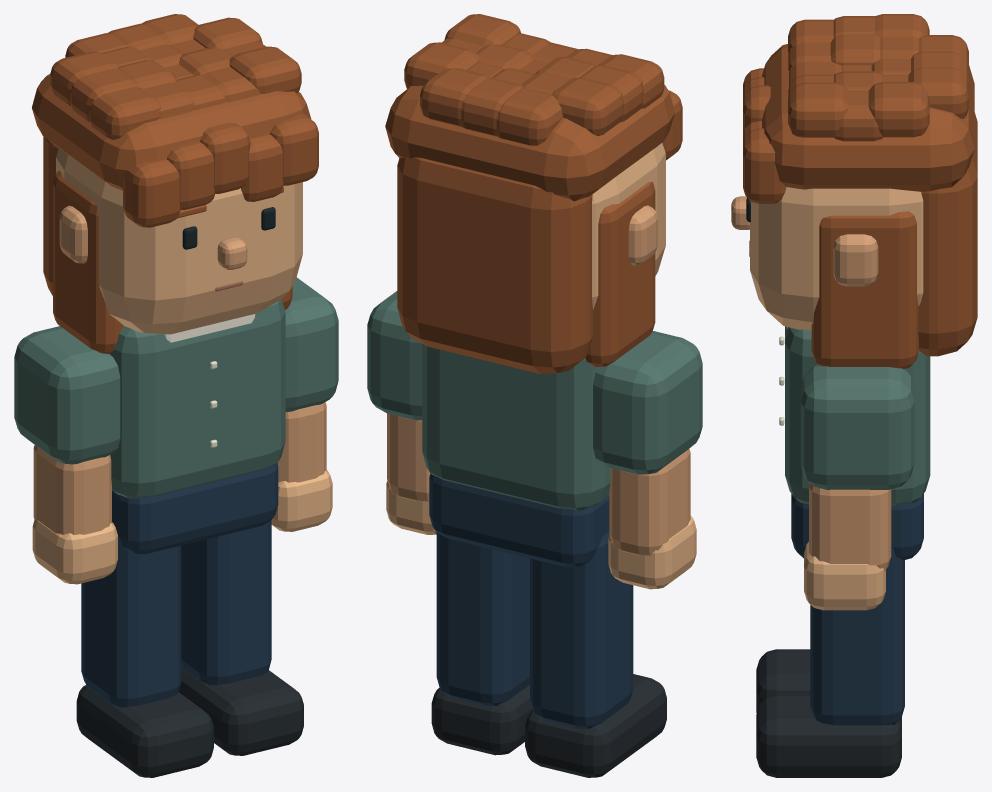
Rendered from employee_longhair.glb.
3 renders of one model, left to right at view 1: azimuth 30°, elevation 25°; view 2: azimuth 150°, elevation 25°; view 3: azimuth 270°, elevation 25°, orthographic. The views are drawn at different scales.
Parts seen in each view (by area): view 1: employee_longhair__copper_hair, employee_longhair__book_teal, employee_longhair__skin_light.002, employee_longhair__pants, employee_longhair__pants.001, employee_longhair__book_teal.001, employee_longhair__pants.002, employee_longhair__shoe, employee_longhair__shoe.001, employee_longhair__book_teal.002, employee_longhair__skin, employee_longhair__skin_light (+5 smaller); view 2: employee_longhair__copper_hair, employee_longhair__book_teal, employee_longhair__pants, employee_longhair__pants.001, employee_longhair__book_teal.001, employee_longhair__pants.002, employee_longhair__shoe, employee_longhair__skin, employee_longhair__book_teal.002, employee_longhair__shoe.001, employee_longhair__skin_light.002, employee_longhair__skin_light (+3 smaller); view 3: employee_longhair__copper_hair, employee_longhair__book_teal.002, employee_longhair__pants.001, employee_longhair__skin_light.002, employee_longhair__shoe.001, employee_longhair__book_teal, employee_longhair__skin.001, employee_longhair__skin_light.001, employee_longhair__skin.003, employee_longhair__pants.002, employee_longhair__shoe.
Boxes of the visible parts, box(x1,y1,x2,y2) form: employee_longhair__copper_hair: box(32, 14, 318, 353); employee_longhair__book_teal: box(110, 299, 285, 499); employee_longhair__skin_light.002: box(56, 148, 302, 334); employee_longhair__pants: box(81, 540, 181, 707); employee_longhair__pants.001: box(181, 520, 271, 685); employee_longhair__book_teal.001: box(14, 326, 120, 464); employee_longhair__pants.002: box(112, 463, 278, 554); employee_longhair__shoe: box(76, 685, 213, 777); employee_longhair__shoe.001: box(178, 667, 303, 755); employee_longhair__book_teal.002: box(285, 277, 338, 411); employee_longhair__skin: box(33, 445, 111, 534); employee_longhair__skin_light: box(32, 519, 117, 584); employee_longhair__copper_hair: box(385, 14, 682, 374); employee_longhair__book_teal: box(422, 344, 610, 510); employee_longhair__pants: box(530, 531, 633, 728); employee_longhair__pants.001: box(436, 532, 529, 705); employee_longhair__book_teal.001: box(593, 331, 702, 474); employee_longhair__pants.002: box(429, 473, 609, 567); employee_longhair__shoe: box(525, 674, 666, 777); employee_longhair__skin: box(609, 448, 690, 555); employee_longhair__book_teal.002: box(367, 291, 422, 420); employee_longhair__shoe.001: box(431, 685, 532, 755); employee_longhair__skin_light.002: box(592, 143, 665, 309); employee_longhair__skin_light: box(608, 516, 696, 589); employee_longhair__copper_hair: box(743, 14, 977, 368); employee_longhair__book_teal.002: box(800, 365, 914, 489); employee_longhair__pants.001: box(810, 548, 904, 725); employee_longhair__skin_light.002: box(750, 187, 923, 330); employee_longhair__shoe.001: box(756, 694, 901, 777); employee_longhair__book_teal: box(785, 326, 930, 506); employee_longhair__skin.001: box(809, 482, 891, 570); employee_longhair__skin_light.001: box(804, 541, 885, 610); employee_longhair__skin.003: box(731, 196, 878, 286); employee_longhair__pants.002: box(791, 494, 923, 560); employee_longhair__shoe: box(756, 649, 810, 712).
Size of the model in its own units: 0.535 by 1.2 by 0.39.
